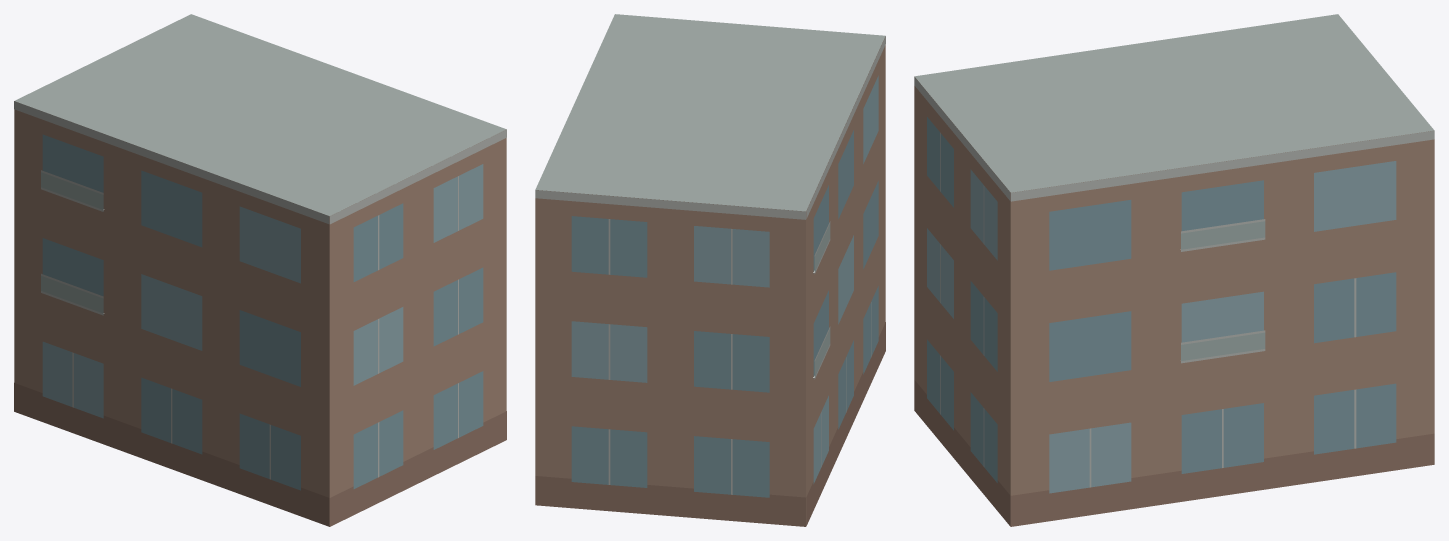
File: survey-upis-32783102.glb
The picture shows the model from 3 angles, left to right: view 1: azimuth 30°, elevation 25°; view 2: azimuth 150°, elevation 25°; view 3: azimuth 270°, elevation 25°; orthographic projection. The views are drawn at different scales.
Parts seen in each view (by area): view 1: survey-upis-32783102.tmp; view 2: survey-upis-32783102.tmp; view 3: survey-upis-32783102.tmp.
Boxes of the visible parts, left/top/right/bottom form: survey-upis-32783102.tmp: left=14, top=14, right=506, bottom=526; survey-upis-32783102.tmp: left=535, top=14, right=885, bottom=526; survey-upis-32783102.tmp: left=914, top=14, right=1434, bottom=526.
Size of the model in its own units: 10.51 by 9.15 by 12.92.
